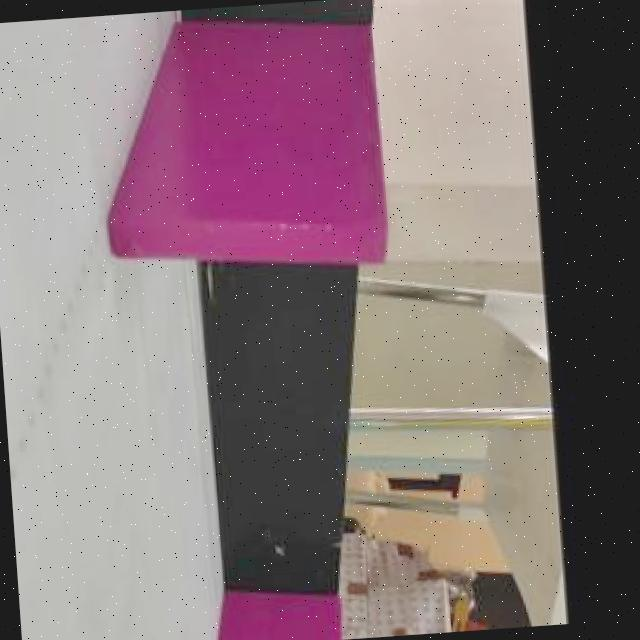xparking: (134, 25, 384, 268), (217, 595, 346, 640)
